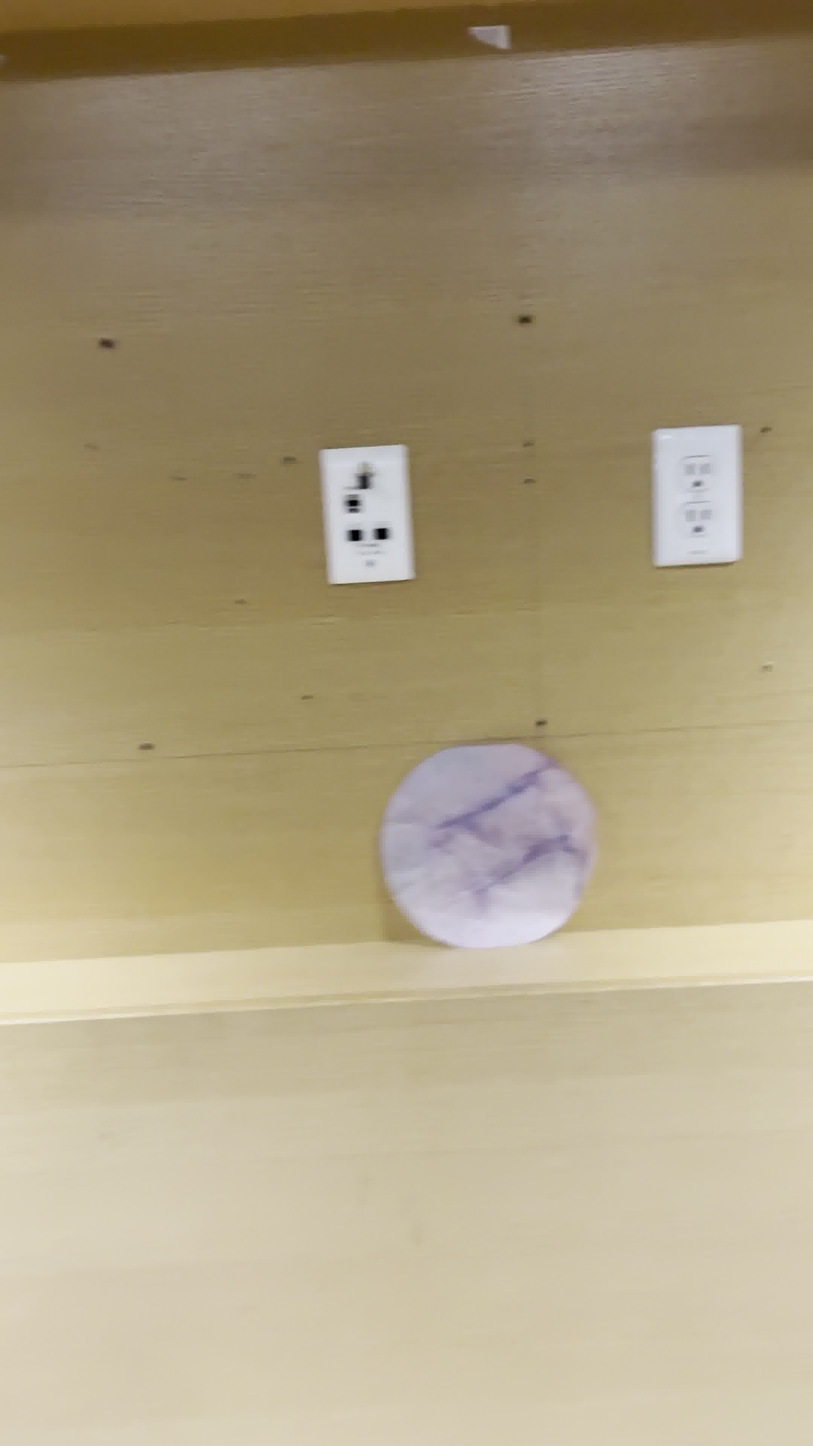Target: (373, 742, 605, 951)
